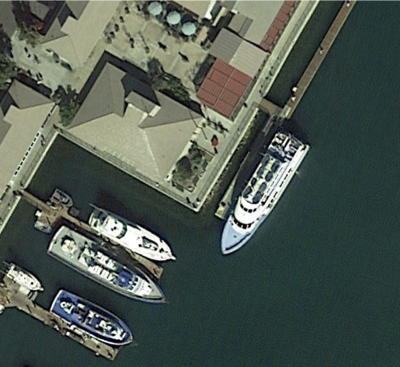boat: (218, 129, 314, 257), (45, 224, 168, 306), (86, 208, 178, 263), (51, 289, 135, 349), (5, 261, 47, 294)
